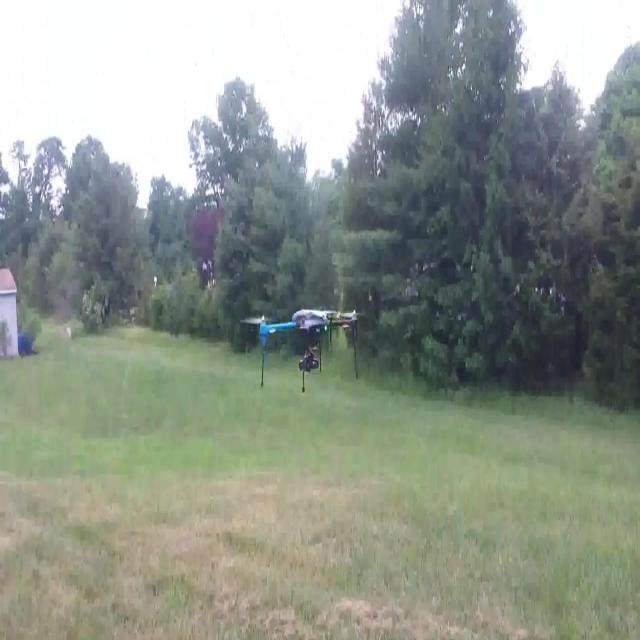UAV: (240, 306, 366, 394)
